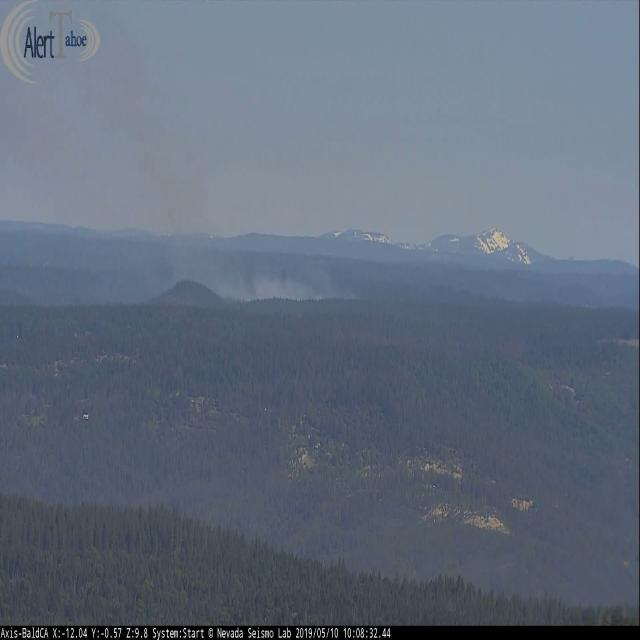smoke: (105, 38, 352, 300)
